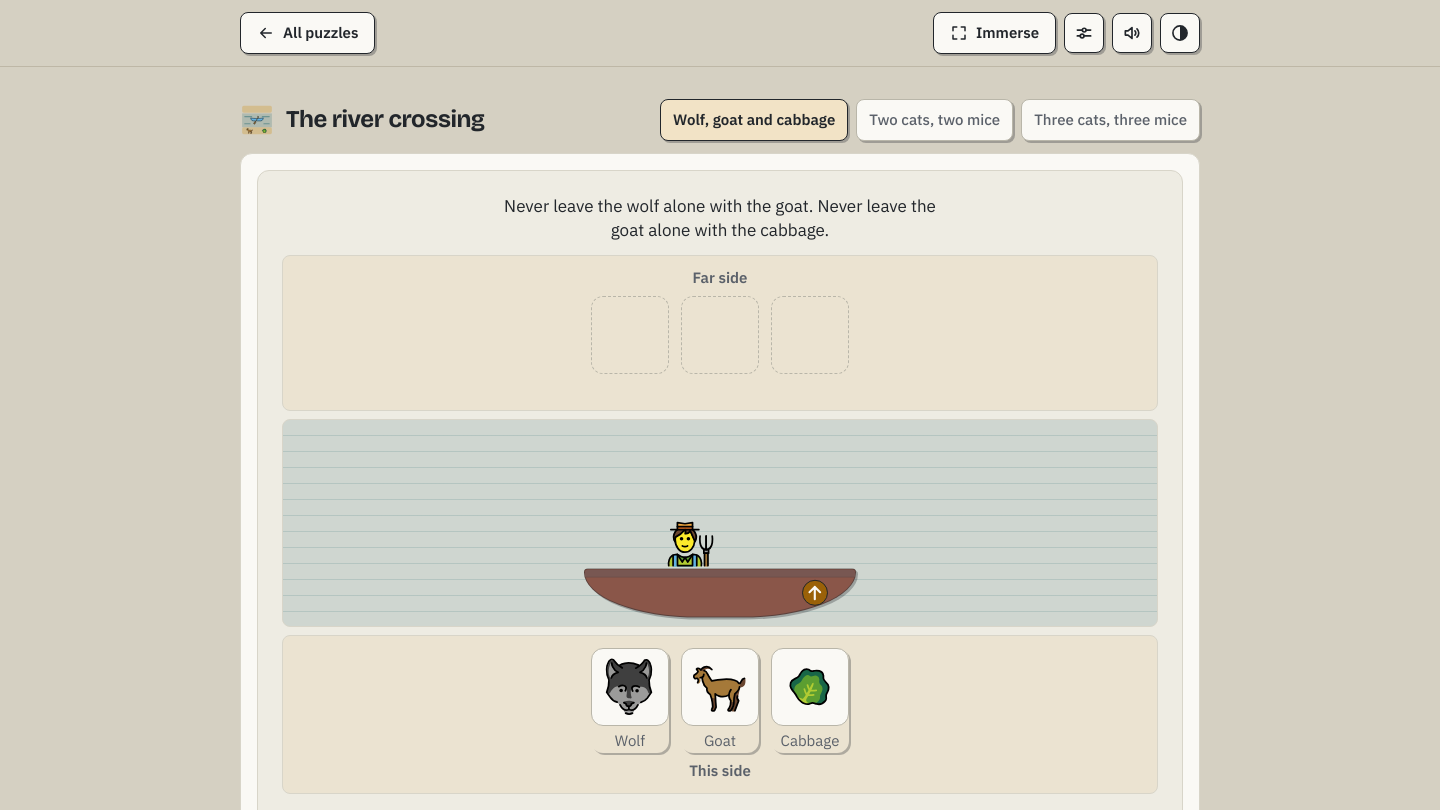
Test: immerse › asks for the screen, and hands it back through the button
The width and height of the screenshot is (1440, 810).
Click the button "Immerse" at point(994, 33), box top-left (933, 12), bottom-right (1056, 54)
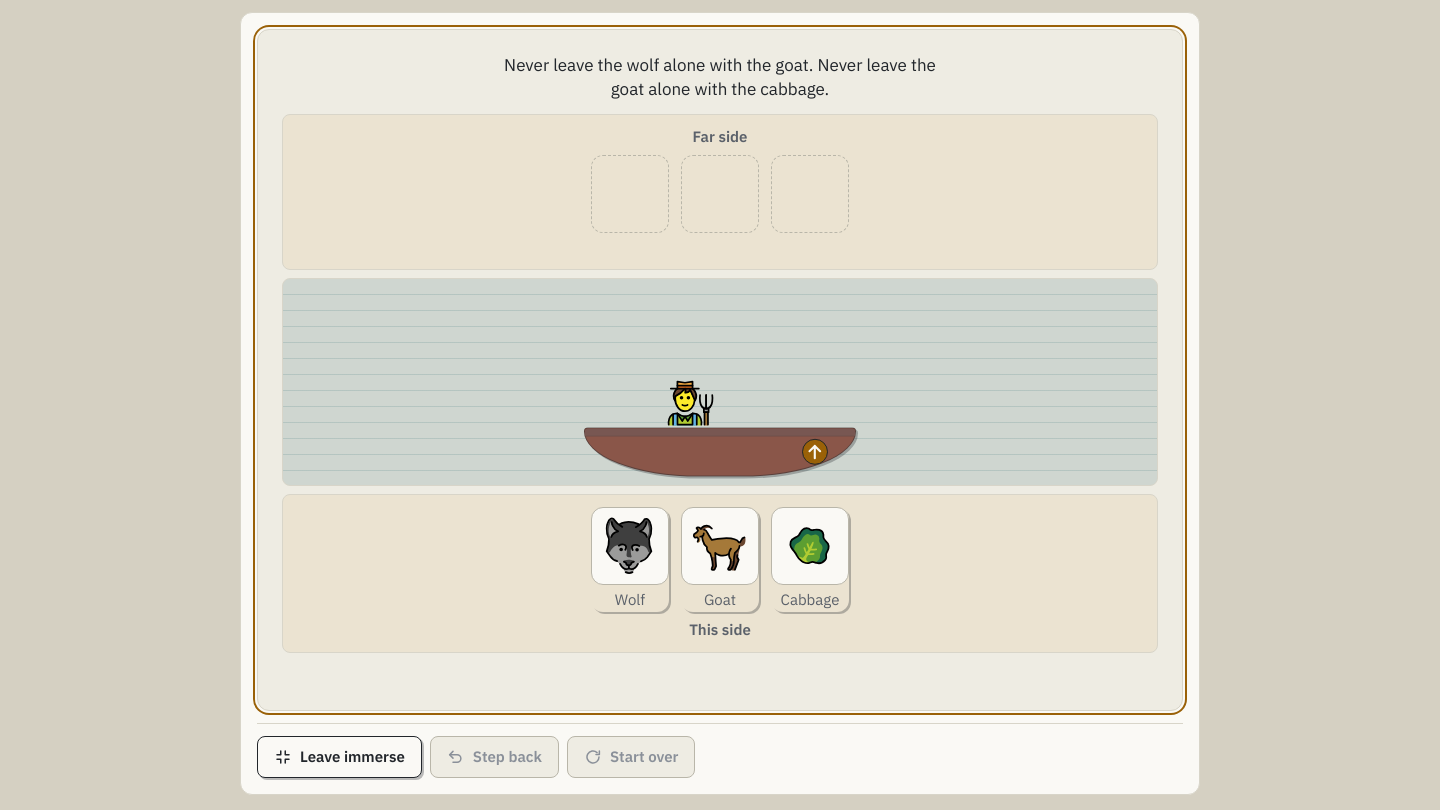
Click the button "Leave immerse" at point(339, 757), box top-left (257, 736), bottom-right (422, 778)
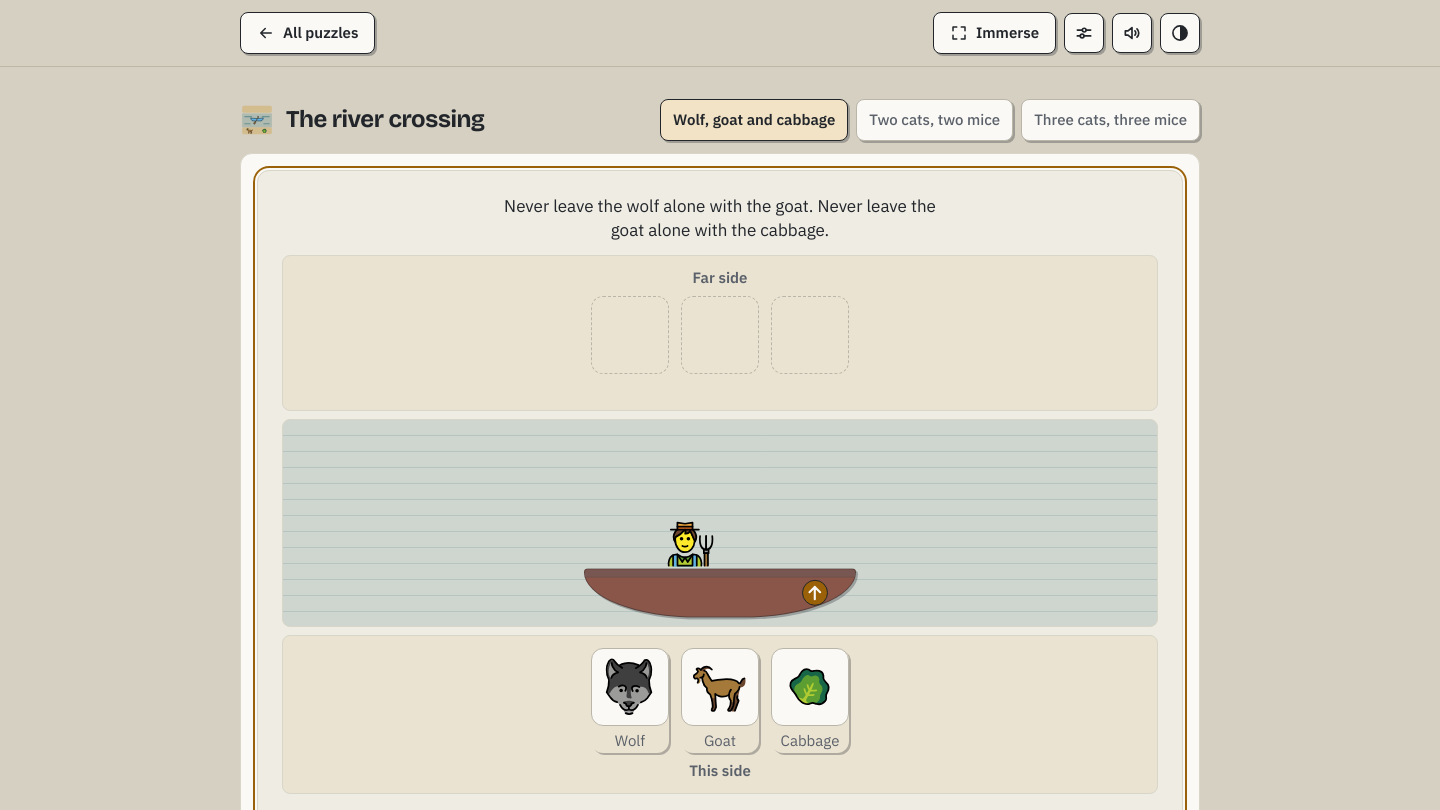
Result: the link "All puzzles" is shown at top-left (240, 12), bottom-right (376, 54)
